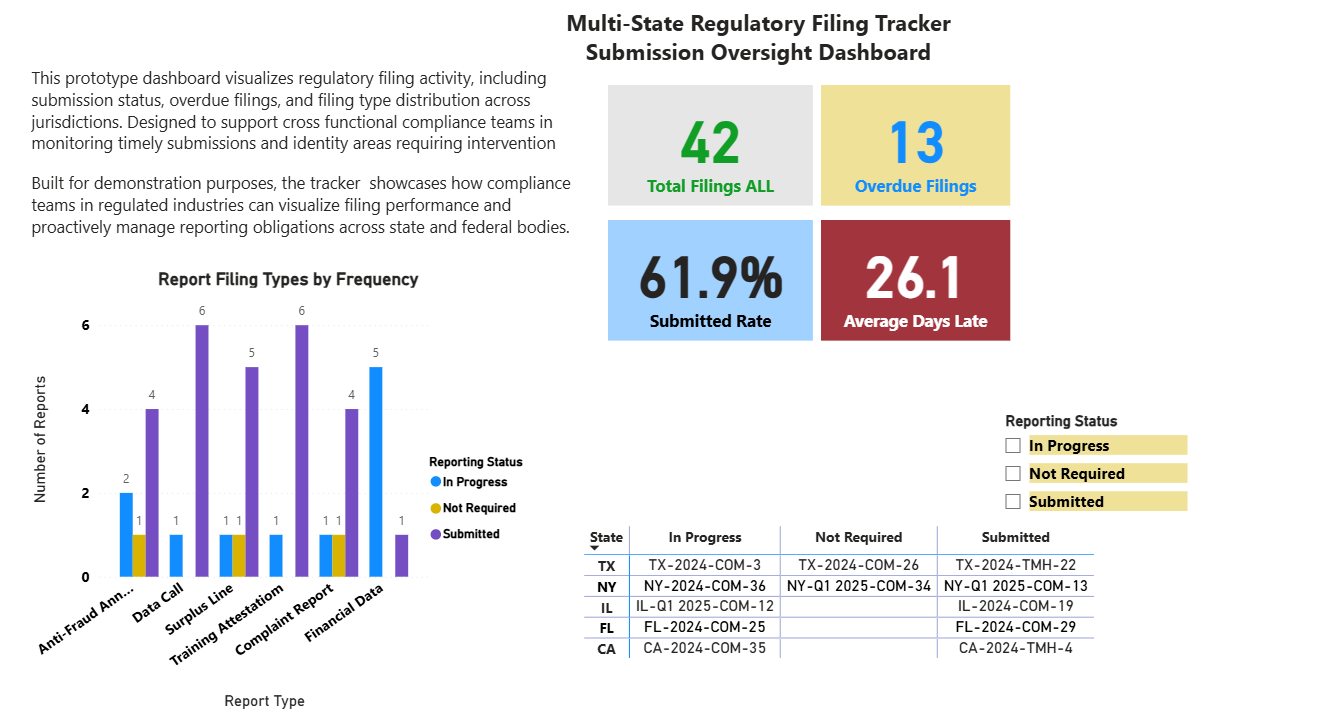

What the dashboard file says about the page in this screenshot:
{"tool":"powerbi","page":{"name":"Page 1","canvas":[1280,720],"ordinal":0},"visuals":[{"type":"card","fields":{"Values":["Tracker.Total Filings"]},"box":[584.6,104.8,197.1,116.3],"z":0},{"type":"card","fields":{"Values":["Tracker.Submitted Rate"]},"box":[584.6,234.6,197.1,116.3],"z":1000},{"type":"card","fields":{"Values":["Tracker.Average Days Late"]},"box":[789.4,234.6,181.7,116.3],"z":2000},{"type":"card","fields":{"Values":["Tracker.Overdue Filings"]},"box":[789.4,104.8,181.7,116.3],"z":3000},{"type":"clusteredColumnChart","title":"Report Filing Types by Frequency","fields":{"Category":["Tracker.Filing Type"],"Y":["CountNonNull(Tracker.Filing ID)"],"Series":["Tracker.Reporting Status"]},"box":[25,280.8,504.8,428.8],"z":4000},{"type":"pivotTable","fields":{"Rows":["Tracker.State"],"Values":["Min(Tracker.Filing ID)"],"Columns":["Tracker.Reporting Status"]},"box":[556.6,523.8,500.6,185.9],"z":5000},{"type":"slicer","fields":{"Values":["Tracker.Reporting Status"]},"box":[953.8,414.4,193.3,109.6],"z":6000},{"type":"textbox","box":[423.1,25,612.5,70.2],"z":7000},{"type":"textbox","box":[25,81.7,541.3,185.6],"z":8000}]}

Visuals, with their boxes on the page's 1280x720 design canvas (x1, y1, x2, y2). These are canvas units, not pixel positions in the 1330x723 screenshot, which may show the page scaled, cropped or inside an application window:
card - Tracker.Total Filings: Rect(585, 105, 782, 221)
card - Tracker.Submitted Rate: Rect(585, 235, 782, 351)
card - Tracker.Average Days Late: Rect(789, 235, 971, 351)
card - Tracker.Overdue Filings: Rect(789, 105, 971, 221)
"Report Filing Types by Frequency" clusteredColumnChart: Rect(25, 281, 530, 710)
pivotTable - Tracker.State x Min(Tracker.Filing ID): Rect(557, 524, 1057, 710)
slicer - Tracker.Reporting Status: Rect(954, 414, 1147, 524)
textbox: Rect(423, 25, 1036, 95)
textbox: Rect(25, 82, 566, 267)
